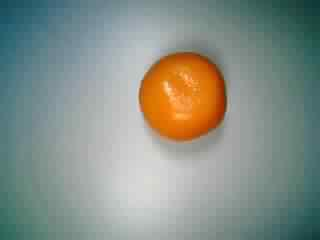orange: (134, 49, 232, 147)
